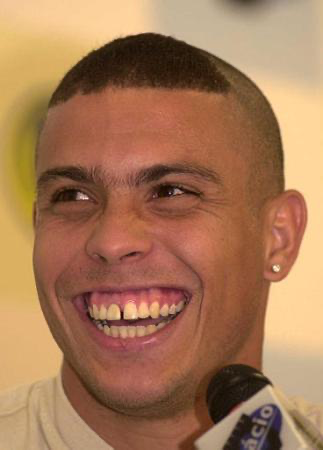Face: (35, 98, 253, 407)
